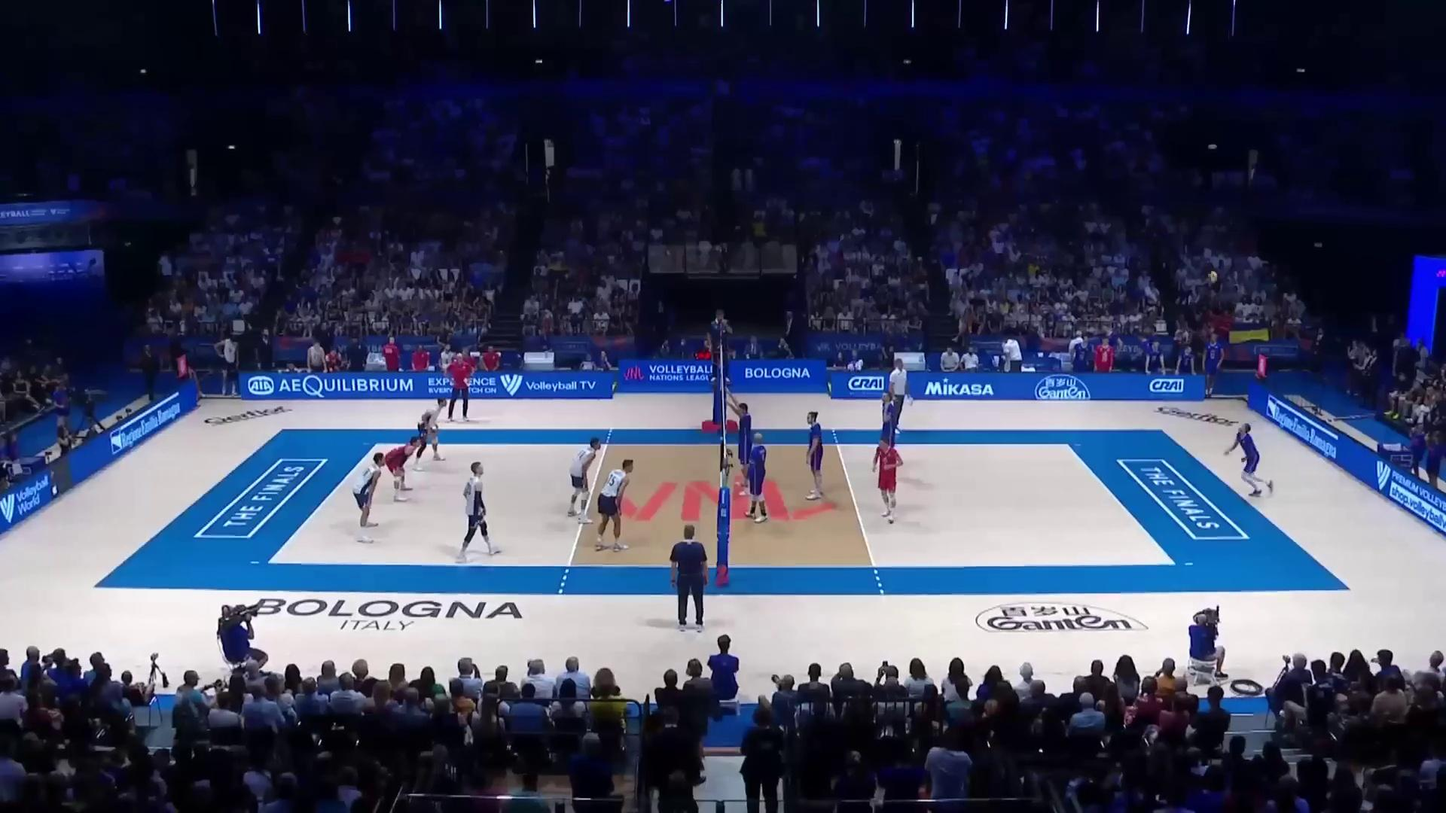player: (453, 461, 502, 561), (593, 457, 635, 551), (1226, 421, 1275, 498), (565, 437, 605, 525), (353, 452, 388, 542), (870, 434, 904, 523), (803, 409, 832, 502), (385, 438, 423, 501), (746, 431, 771, 525), (415, 396, 447, 467), (735, 401, 754, 495), (880, 392, 899, 467)
refree: (669, 529, 707, 631), (710, 311, 734, 383)
